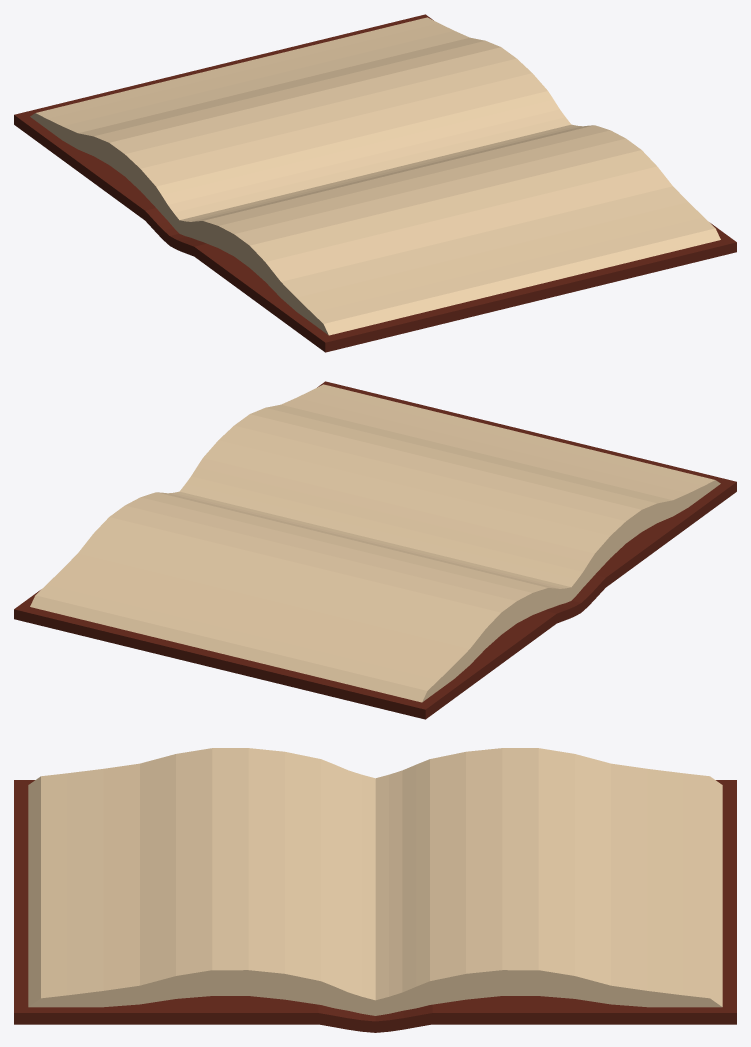
File: Buch (1).fbx
3 renders of one model, top to bottom at view 1: azimuth 30°, elevation 25°; view 2: azimuth 150°, elevation 25°; view 3: azimuth 270°, elevation 25°, orthographic. The views are drawn at different scales.
Parts seen in each view (by area): view 1: Buch; view 2: Buch; view 3: Buch.
Boxes of the visible parts, x1,y1,x2,y2 form: Buch: [14, 14, 736, 352]; Buch: [14, 381, 736, 719]; Buch: [14, 748, 736, 1032].
Size of the model in its own units: 38.65 by 4.43 by 50.65.
